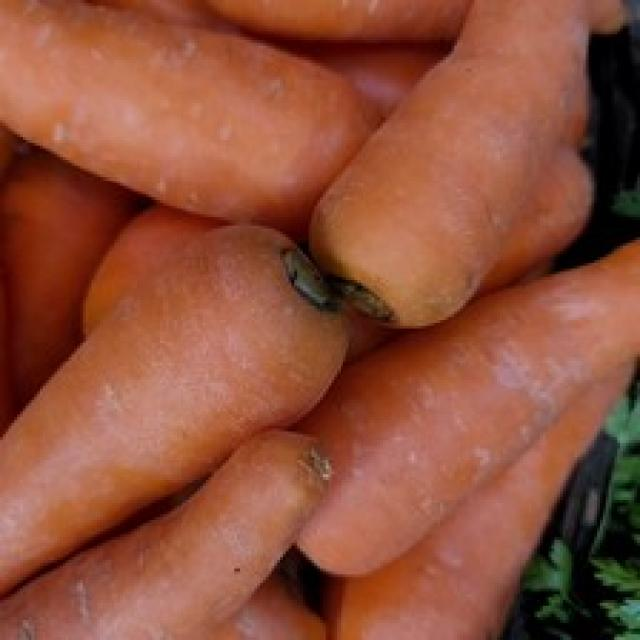carrot: (2, 219, 388, 589), (243, 246, 640, 580), (315, 1, 627, 339), (0, 0, 418, 251)
